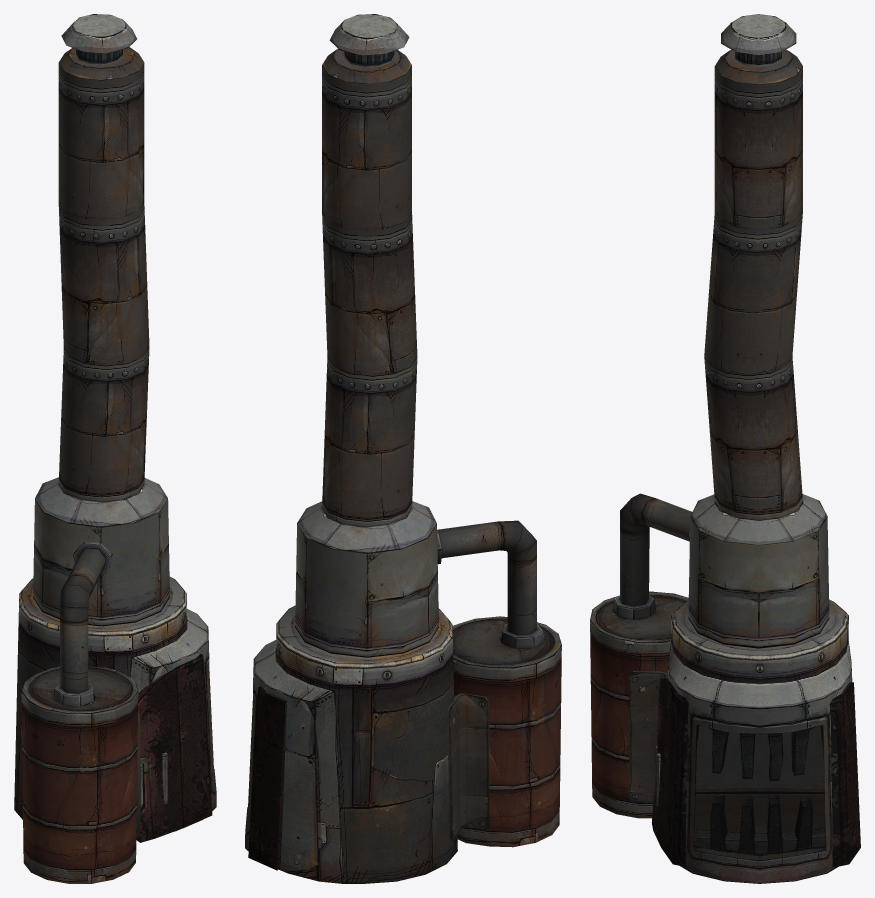
Rendered from Furace.FBX.
The picture shows the model from 3 angles, left to right: view 1: azimuth 30°, elevation 25°; view 2: azimuth 150°, elevation 25°; view 3: azimuth 270°, elevation 25°; orthographic projection. The views are drawn at different scales.
Visible parts, largest first — view 1: Furnace, FurnaceDoor; view 2: Furnace, FurnaceDoor; view 3: Furnace, FurnaceDoor.
Part boxes in pixels (bbox=[...]): Furnace: bbox=[14, 14, 216, 883]; FurnaceDoor: bbox=[136, 654, 212, 842]; Furnace: bbox=[245, 14, 561, 883]; FurnaceDoor: bbox=[248, 686, 286, 870]; Furnace: bbox=[590, 14, 852, 883]; FurnaceDoor: bbox=[651, 678, 860, 867].
Bounding box in the file's own units: 307 × 1000 × 305.
